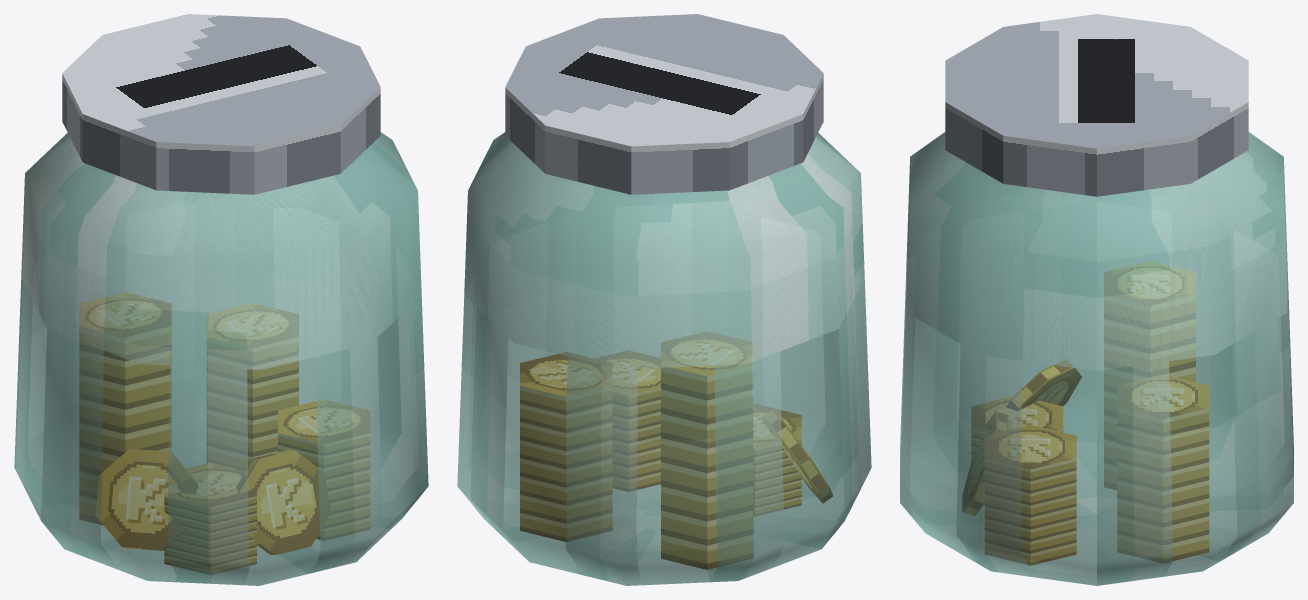
Rendered from money-savingsJar.glb.
3 views of the same model, side by side, from view 1: azimuth 30°, elevation 25°; view 2: azimuth 150°, elevation 25°; view 3: azimuth 270°, elevation 25° (orthographic).
Visible parts, largest first — view 1: money.savingsJar; view 2: money.savingsJar; view 3: money.savingsJar.
Boxes of the visible parts, x1,y1,x2,y2 form: money.savingsJar: (14,14,428,585); money.savingsJar: (457,14,871,585); money.savingsJar: (900,14,1293,585).
Bounding box in the file's own units: 1.4 × 1.62 × 1.33.
Materials: 7 (7 with a texture image).
